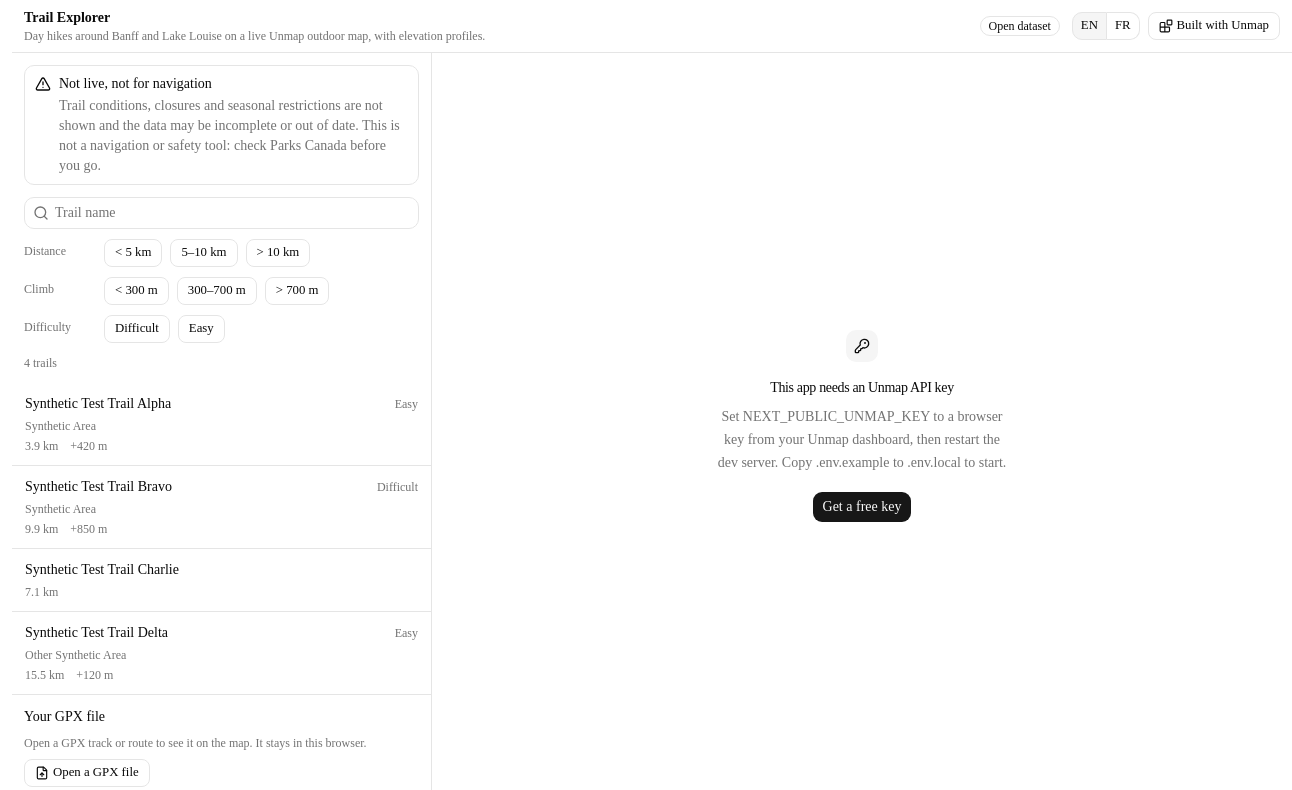
Test case: Trails without a key › filters by distance, climb and difficulty, and selects a trail into the URL
Check: the list named "Trails" is shown, box [12,383,431,694]
Click the button "5–10 km": (204,253) [170,239,238,267]
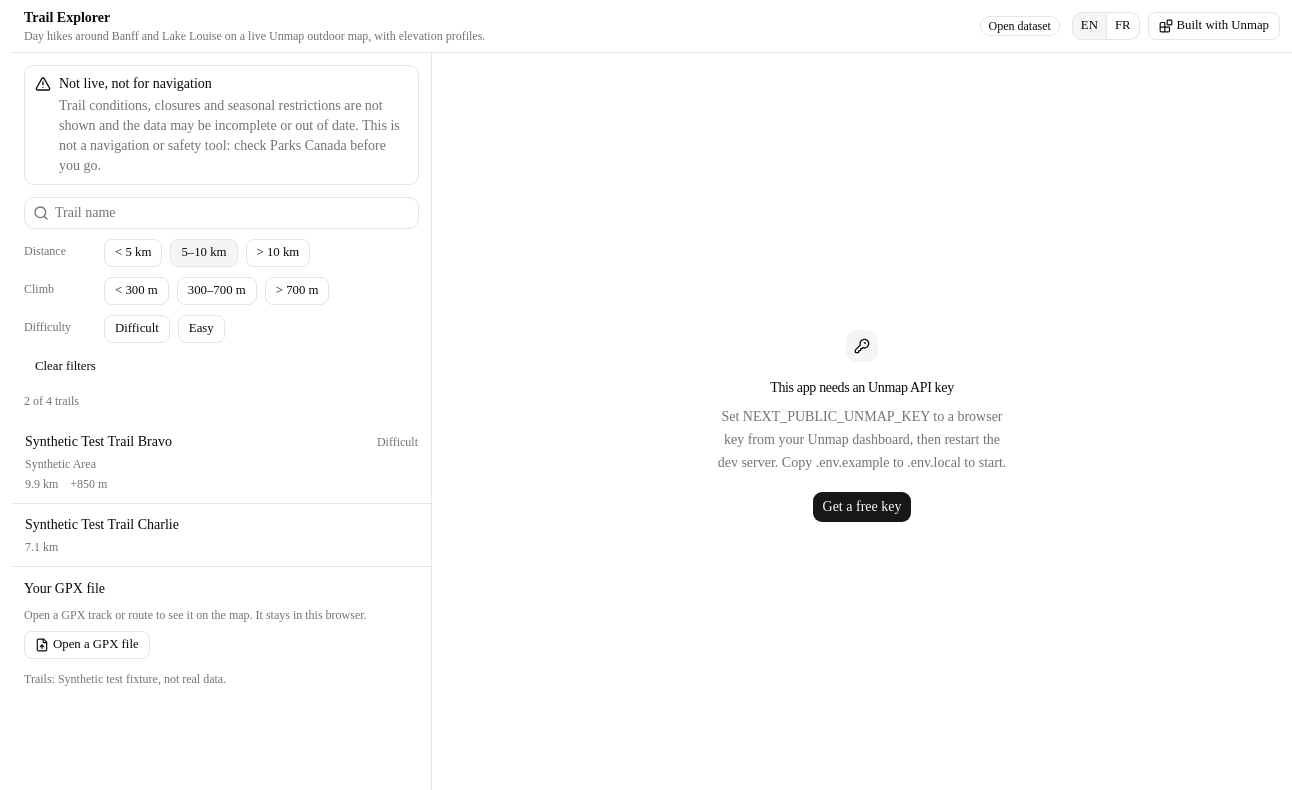
Click the button named "Over 700 m": (297,291) [265,277,330,305]
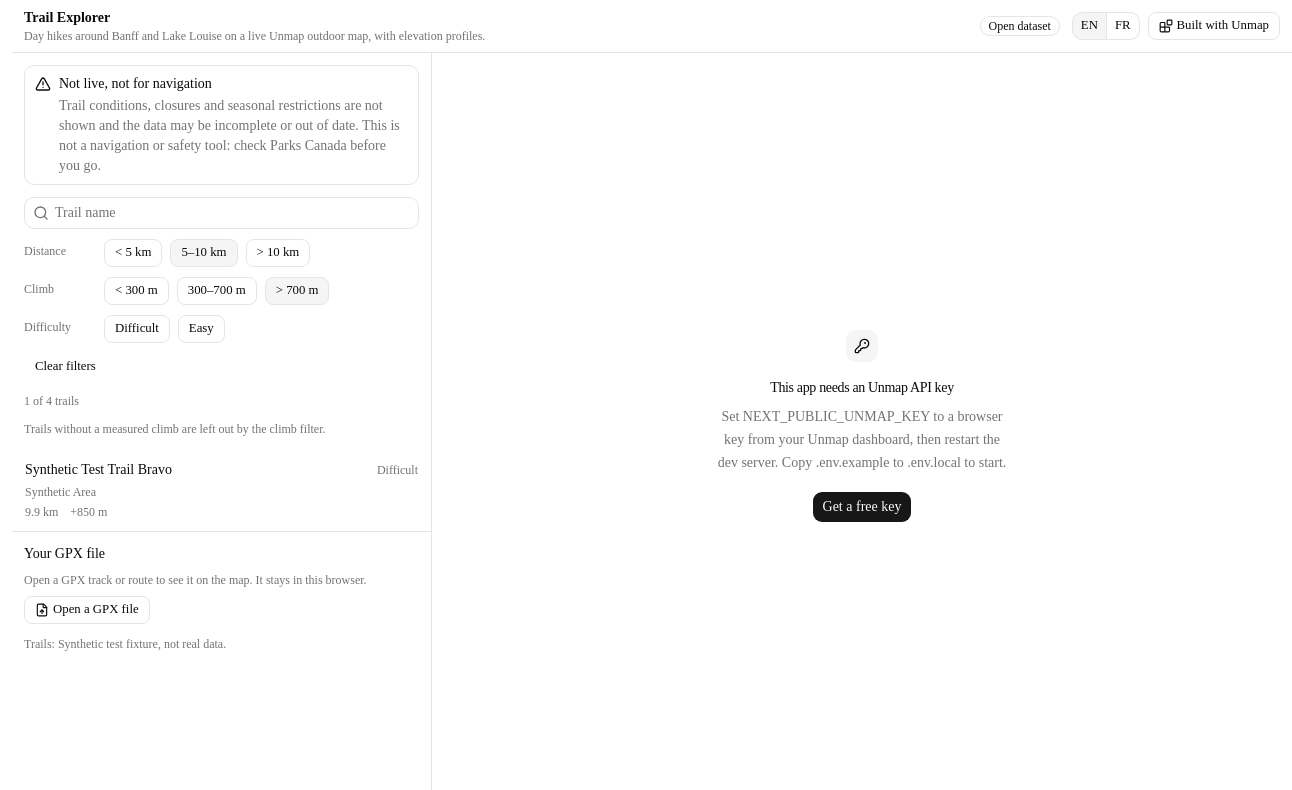
Check: the text "Trails without a measured climb are left out" is shown, box [24,422,326,436]
Click the button "Easy": (201,329) [178,315,225,343]
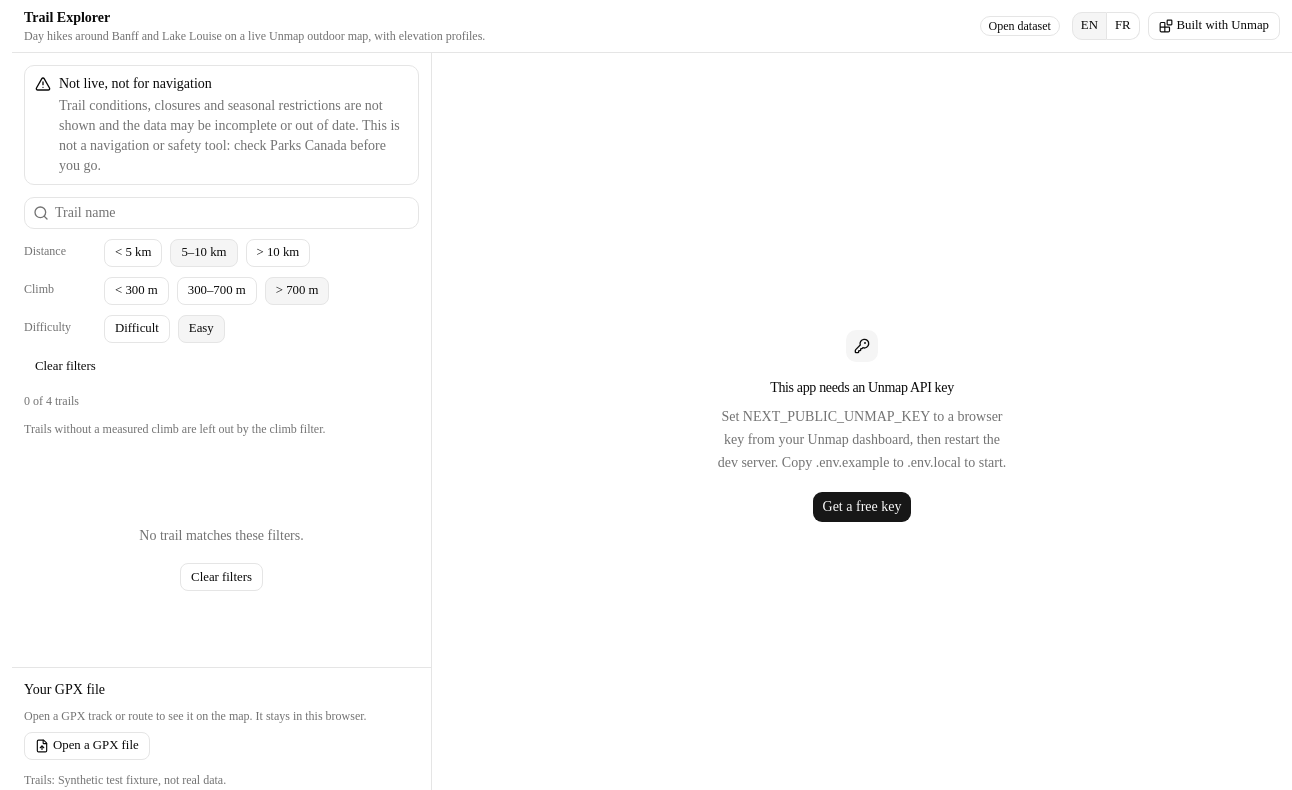
Check: the text "No trail matches these filters." is shown, box [139,525,304,547]
Click the button "Clear filters" below "Difficulty": (65,367) [24,353,107,381]
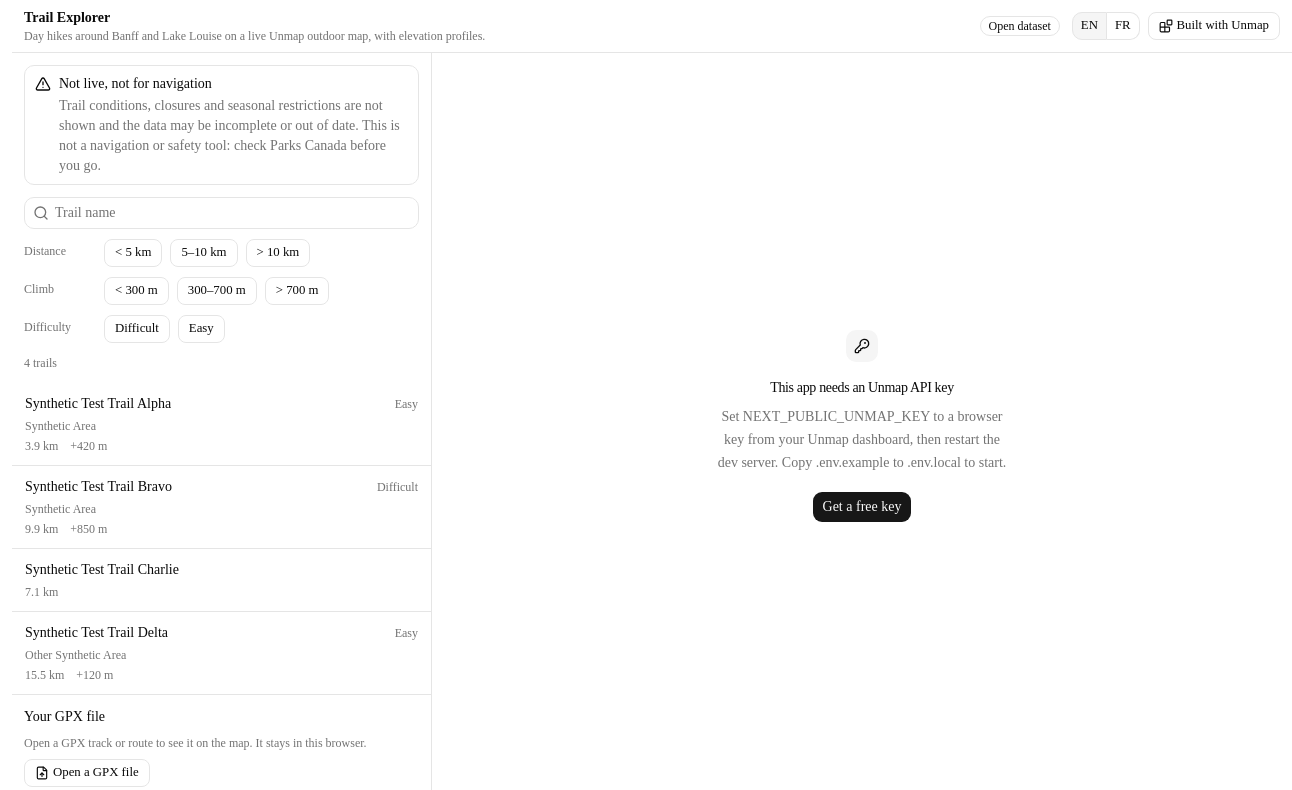
Click the button "Synthetic Test Trail Charlie 7.1 km": (102,570) [12,549,431,611]
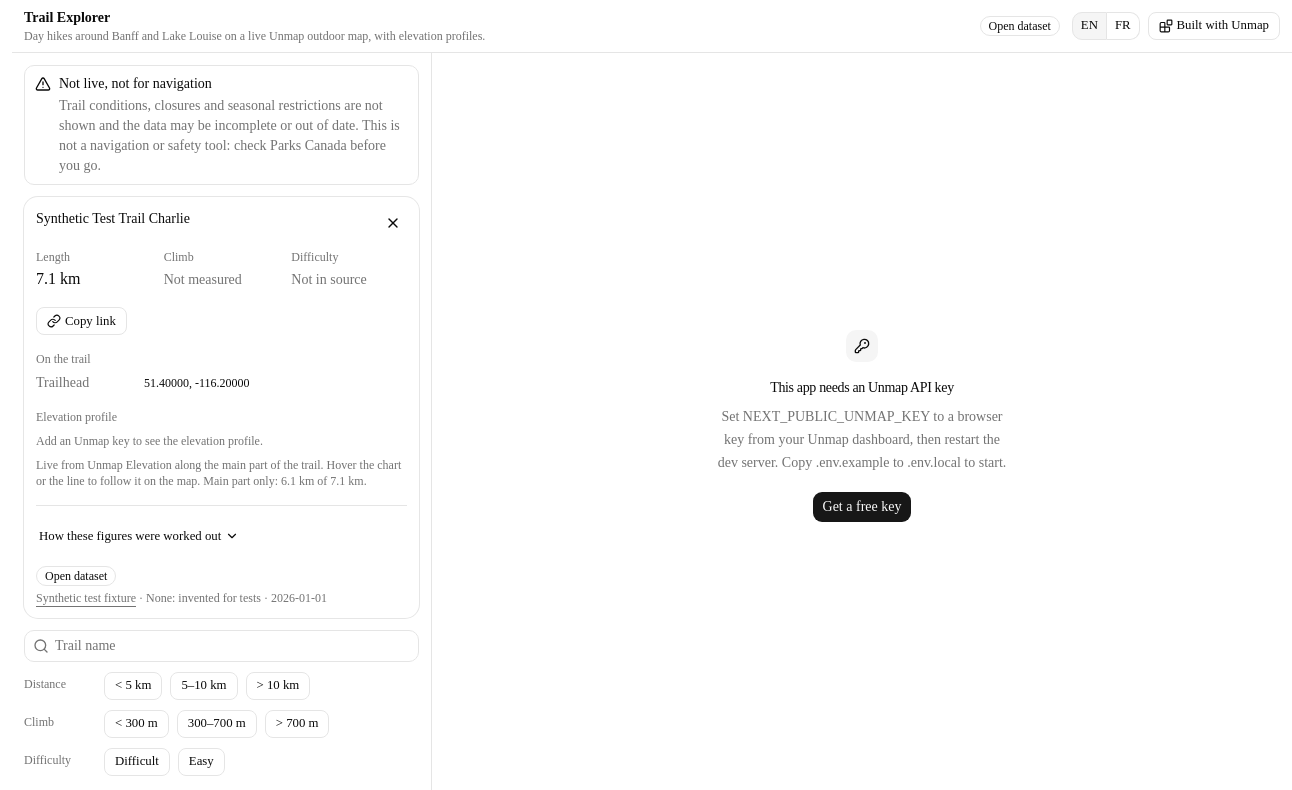
Check: the text "Not measured" is shown, box [164,272,242,287]
Check: the text "Not in source" is shown, box [291,272,367,287]
Check: the text "Main part only" is shown, box [200,474,367,488]
Click the button "How these figures were worked out": (139,536) [28,522,250,550]
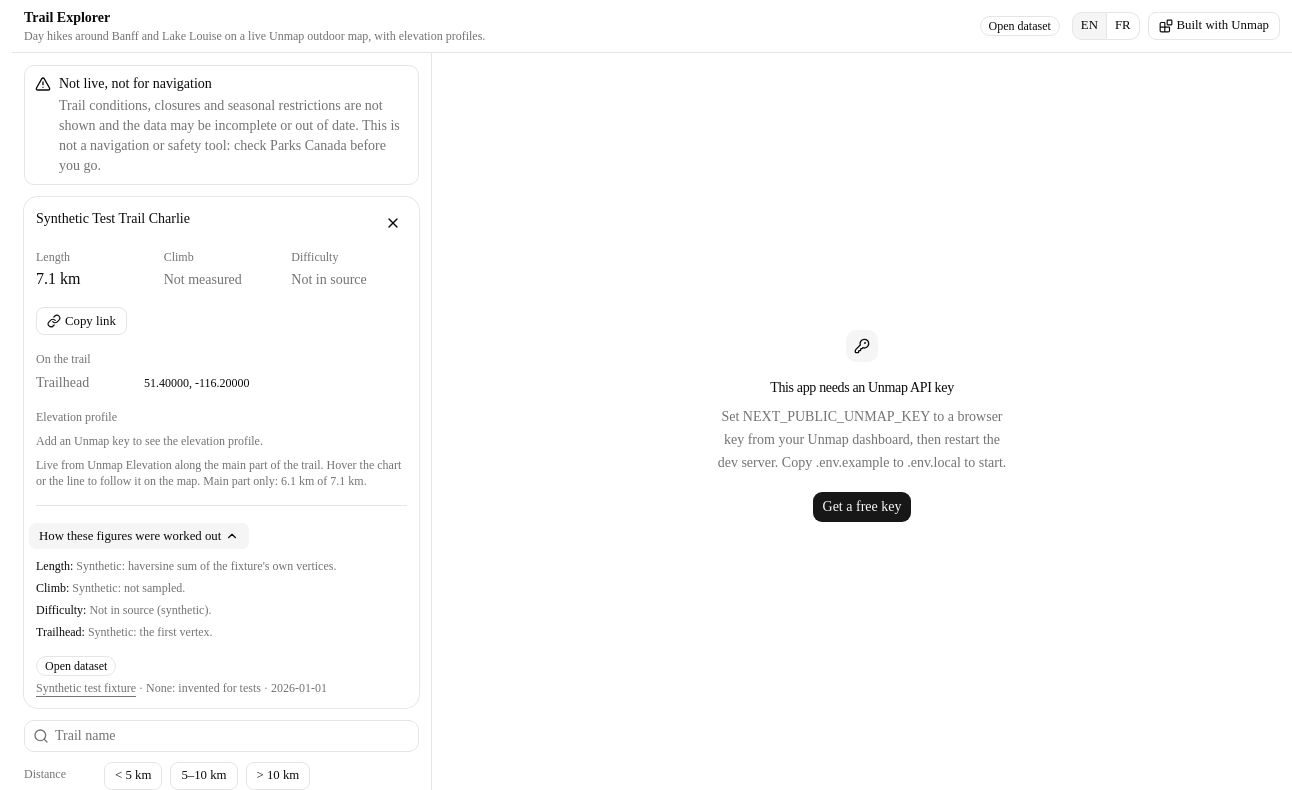
Check: the button "How these figures were worked out" is expanded, box [28,522,250,550]
Check: the text "Trailhead:" is shown, box [36,625,85,639]
